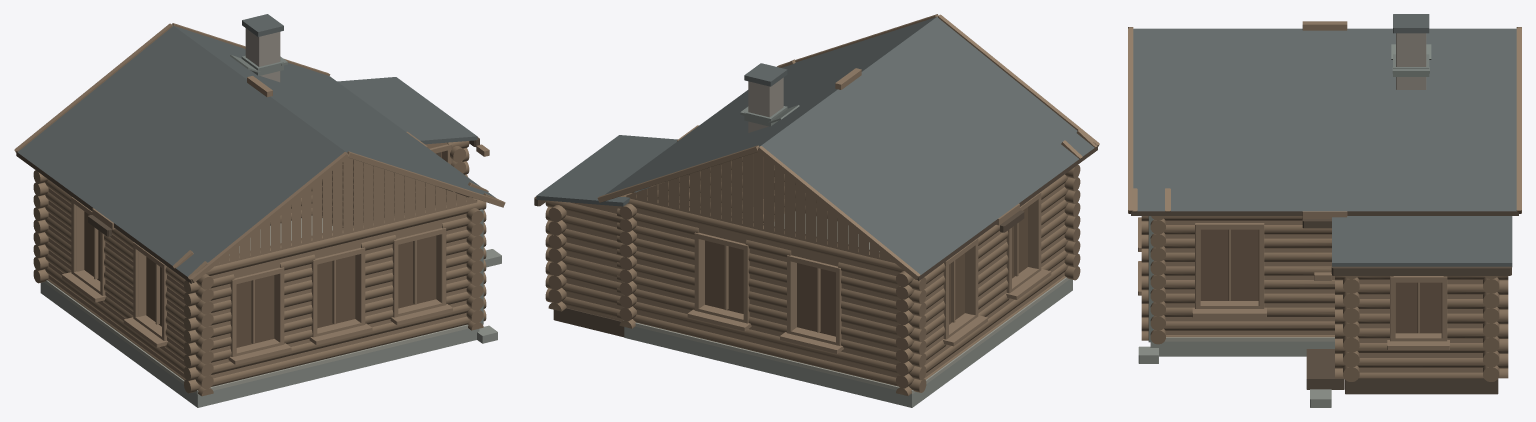
The model's file is variant-a-opaque-for-retexture.glb.
3 views of the same model, side by side, from view 1: azimuth 30°, elevation 25°; view 2: azimuth 150°, elevation 25°; view 3: azimuth 270°, elevation 25° (orthographic). The views are drawn at different scales.
Visible parts, largest first — view 1: VariantA_TimberGable_Dwelling_Roof_LOD0, VariantA_TimberGable_Dwelling_Street_LogCrown, VariantA_TimberGable_Dwelling_Front_BoardedGable_LOD0, VariantA_TimberGable_Dwelling_Left_LogCrown, VariantA_TimberGable_Dwelling_Street_Wall_LOD0, VariantA_TimberGable_Dwelling_Foundation_LOD0, VariantA_TimberGable_Dwelling_SeniRoof_LOD0, VariantA_TimberGable_Dwelling_Left_Wall_LOD0, VariantA_TimberGable_Dwelling_Street_Window1_Recess_LOD0, VariantA_TimberGable_Dwelling_Street_Window0_Recess_LOD0, VariantA_TimberGable_Dwelling_Street_Window2_Recess_LOD0, VariantA_TimberGable_Dwelling_FootingCap_LOD0 (+21 smaller); view 2: VariantA_TimberGable_Dwelling_Roof_LOD0, VariantA_TimberGable_Dwelling_Rear_LogCrown, VariantA_TimberGable_Dwelling_Back_BoardedGable_LOD0, VariantA_TimberGable_Dwelling_Rear_Wall_LOD0, VariantA_TimberGable_Dwelling_Left_LogCrown, VariantA_TimberGable_Dwelling_Foundation_LOD0, VariantA_TimberGable_Dwelling_SeniRear_LogCrown, VariantA_TimberGable_Dwelling_SeniRoof_LOD0, VariantA_TimberGable_Dwelling_Left_Wall_LOD0, VariantA_TimberGable_Dwelling_Rear_Window0_Recess_LOD0, VariantA_TimberGable_Dwelling_Rear_Window1_Recess_LOD0, VariantA_TimberGable_Dwelling_FootingCap_LOD0 (+17 smaller); view 3: VariantA_TimberGable_Dwelling_Roof_LOD0, VariantA_TimberGable_Dwelling_Right_LogCrown, VariantA_TimberGable_Dwelling_SeniRoof_LOD0, VariantA_TimberGable_Dwelling_SeniOuter_LogCrown, VariantA_TimberGable_Dwelling_Right_Wall_LOD0, VariantA_TimberGable_Dwelling_Right_Window0_Recess_LOD0, VariantA_TimberGable_Dwelling_SeniOuter_Wall_LOD0, VariantA_TimberGable_Dwelling_Foundation_LOD0, VariantA_TimberGable_Dwelling_SeniFooting_LOD0, VariantA_TimberGable_Dwelling_SeniOuter_Window0_Recess_LOD0, VariantA_TimberGable_Dwelling_Street_LogCrown, VariantA_TimberGable_Dwelling_SeniTrough_LOD0 (+21 smaller).
Boxes of the visible parts, box(x1,y1,x2,y2) form: VariantA_TimberGable_Dwelling_Roof_LOD0: box(16, 25, 503, 283); VariantA_TimberGable_Dwelling_Street_LogCrown: box(184, 198, 486, 393); VariantA_TimberGable_Dwelling_Front_BoardedGable_LOD0: box(215, 158, 476, 265); VariantA_TimberGable_Dwelling_Left_LogCrown: box(45, 179, 213, 396); VariantA_TimberGable_Dwelling_Street_Wall_LOD0: box(210, 197, 477, 378); VariantA_TimberGable_Dwelling_Foundation_LOD0: box(40, 282, 479, 407); VariantA_TimberGable_Dwelling_SeniRoof_LOD0: box(337, 77, 477, 144); VariantA_TimberGable_Dwelling_Left_Wall_LOD0: box(48, 188, 185, 378); VariantA_TimberGable_Dwelling_Street_Window1_Recess_LOD0: box(317, 255, 355, 328); VariantA_TimberGable_Dwelling_Street_Window0_Recess_LOD0: box(236, 275, 274, 347); VariantA_TimberGable_Dwelling_Street_Window2_Recess_LOD0: box(398, 235, 436, 308); VariantA_TimberGable_Dwelling_FootingCap_LOD0: box(44, 216, 468, 394); VariantA_TimberGable_Dwelling_Roof_LOD0: box(599, 16, 1097, 280); VariantA_TimberGable_Dwelling_Rear_LogCrown: box(617, 193, 926, 392); VariantA_TimberGable_Dwelling_Back_BoardedGable_LOD0: box(626, 152, 893, 262); VariantA_TimberGable_Dwelling_Rear_Wall_LOD0: box(631, 192, 899, 377); VariantA_TimberGable_Dwelling_Left_LogCrown: box(896, 174, 1068, 395); VariantA_TimberGable_Dwelling_Foundation_LOD0: box(624, 279, 1072, 407); VariantA_TimberGable_Dwelling_SeniRear_LogCrown: box(545, 200, 623, 317); VariantA_TimberGable_Dwelling_SeniRoof_LOD0: box(536, 135, 677, 206); VariantA_TimberGable_Dwelling_Left_Wall_LOD0: box(924, 183, 1064, 378); VariantA_TimberGable_Dwelling_Rear_Window0_Recess_LOD0: box(705, 240, 743, 313); VariantA_TimberGable_Dwelling_Rear_Window1_Recess_LOD0: box(797, 263, 835, 336); VariantA_TimberGable_Dwelling_FootingCap_LOD0: box(623, 211, 1069, 394); VariantA_TimberGable_Dwelling_Roof_LOD0: box(1131, 28, 1518, 215); VariantA_TimberGable_Dwelling_Right_LogCrown: box(1141, 216, 1334, 340); VariantA_TimberGable_Dwelling_SeniRoof_LOD0: box(1332, 216, 1512, 266); VariantA_TimberGable_Dwelling_SeniOuter_LogCrown: box(1335, 276, 1508, 378); VariantA_TimberGable_Dwelling_Right_Wall_LOD0: box(1165, 220, 1334, 334); VariantA_TimberGable_Dwelling_Right_Window0_Recess_LOD0: box(1200, 229, 1258, 300); VariantA_TimberGable_Dwelling_SeniOuter_Wall_LOD0: box(1359, 279, 1482, 372); VariantA_TimberGable_Dwelling_Foundation_LOD0: box(1150, 341, 1334, 356); VariantA_TimberGable_Dwelling_SeniFooting_LOD0: box(1345, 378, 1498, 394); VariantA_TimberGable_Dwelling_SeniOuter_Window0_Recess_LOD0: box(1395, 282, 1441, 333); VariantA_TimberGable_Dwelling_Street_LogCrown: box(1150, 216, 1165, 344); VariantA_TimberGable_Dwelling_SeniTrough_LOD0: box(1331, 266, 1511, 275).
Size of the model in its own units: 8.56 by 5.23 by 6.62.
